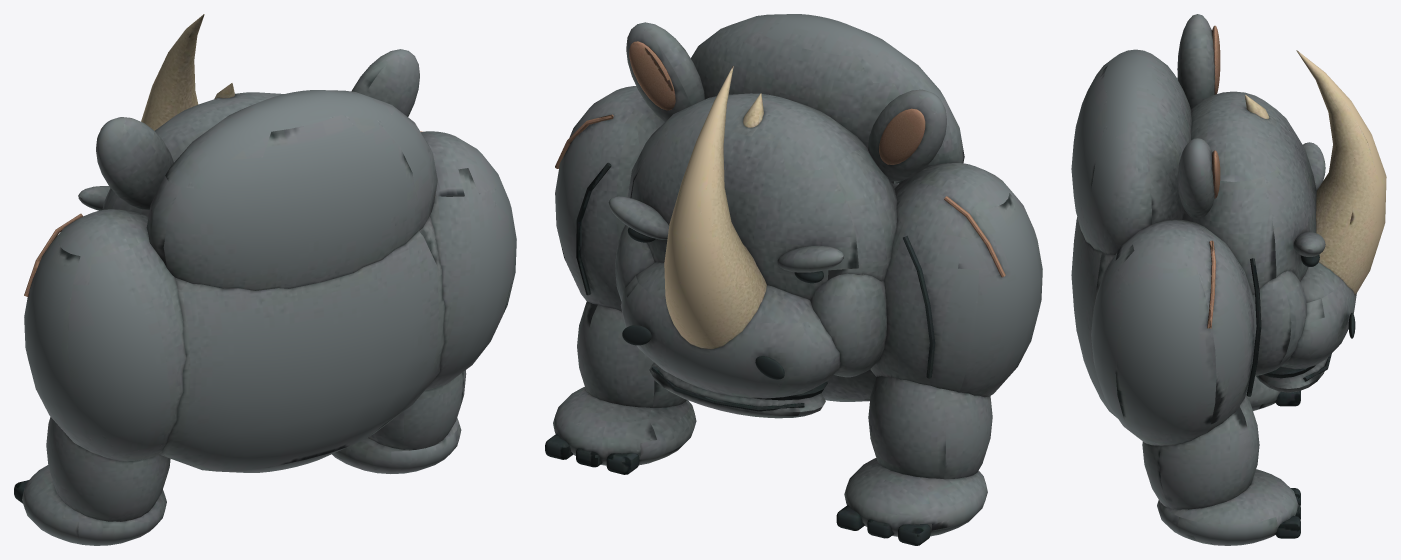
3 views of the same model, side by side, from view 1: azimuth 30°, elevation 25°; view 2: azimuth 150°, elevation 25°; view 3: azimuth 270°, elevation 25° (orthographic). The views are drawn at different scales.
Parts seen in each view (by area): view 1: Grey_hide, Ivory_horn; view 2: Grey_hide, Ivory_horn, Creases_eyes_and_hooves, Sunset_edge; view 3: Grey_hide, Ivory_horn, Creases_eyes_and_hooves, Sunset_edge.
Boxes of the visible parts, box(x1,y1,x2,y2) form: Grey_hide: box(22, 49, 516, 545); Ivory_horn: box(141, 14, 234, 130); Grey_hide: box(553, 14, 1042, 536); Ivory_horn: box(664, 66, 766, 349); Creases_eyes_and_hooves: box(545, 162, 935, 545); Sunset_edge: box(555, 41, 1005, 277); Grey_hide: box(1071, 14, 1356, 545); Ivory_horn: box(1245, 50, 1386, 294); Creases_eyes_and_hooves: box(1246, 254, 1355, 538); Sunset_edge: box(1207, 25, 1220, 328).
Bounding box in the file's own units: 0.895 × 0.8278 × 0.5644.
4 materials, 4 textured.
